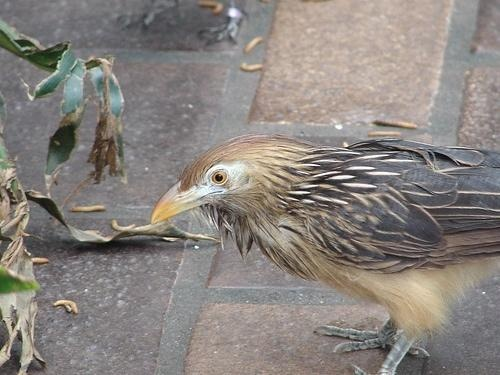bird: (139, 125, 500, 374)
